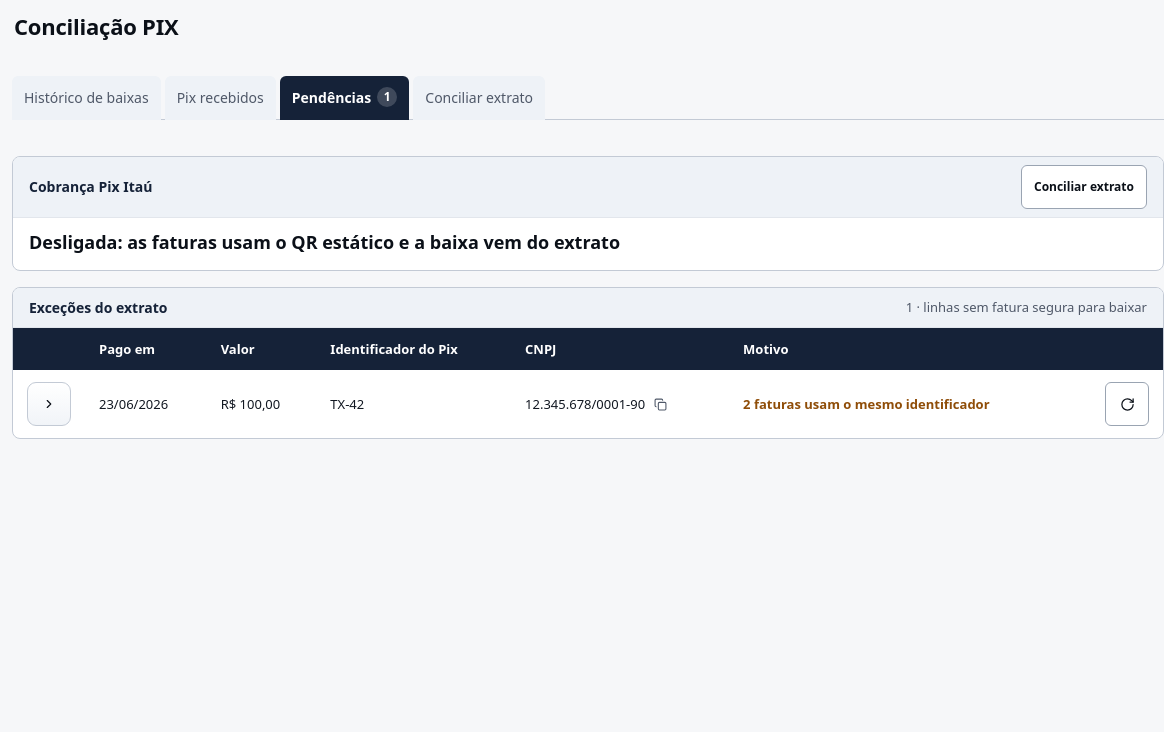
Test case: Conciliação PIX › baixa gravada e exceção não encerrada: pede para não repetir e só encerra a exceção
Click the button named "Abrir faturas candidatas da linha 8" at (49, 404), box [27, 382, 71, 426]
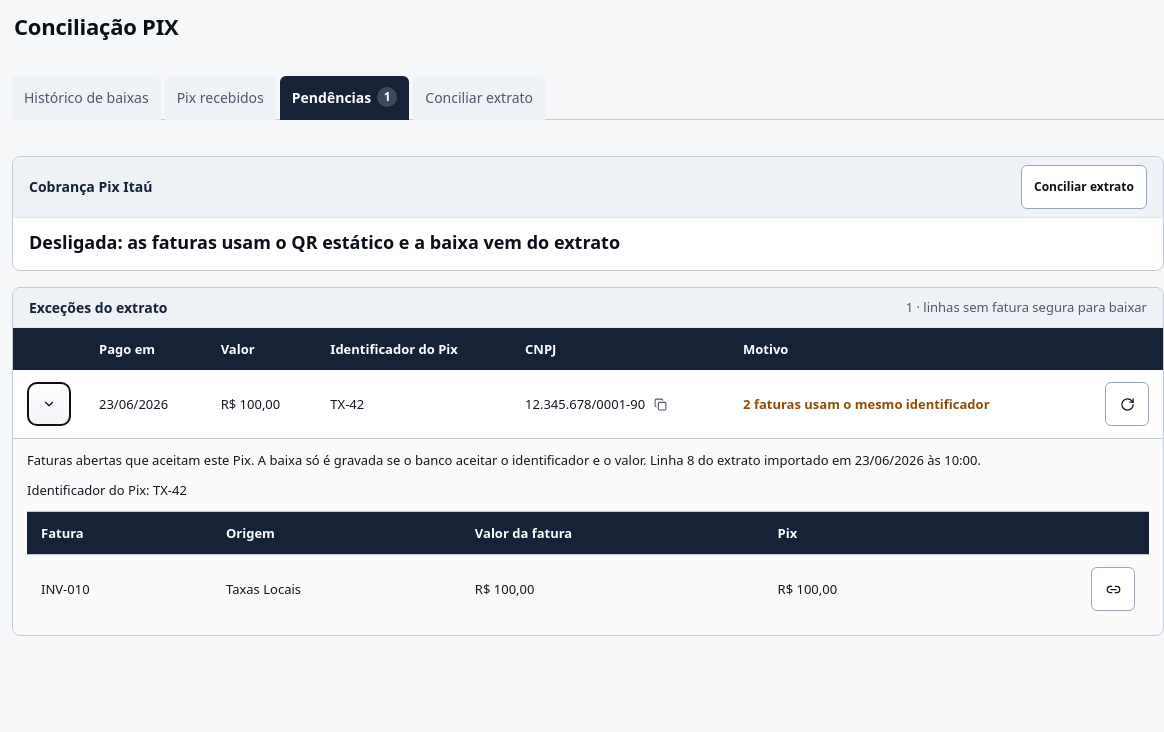
Click the button named "Baixar na fatura INV-010" at (1113, 589), box [1091, 567, 1135, 611]
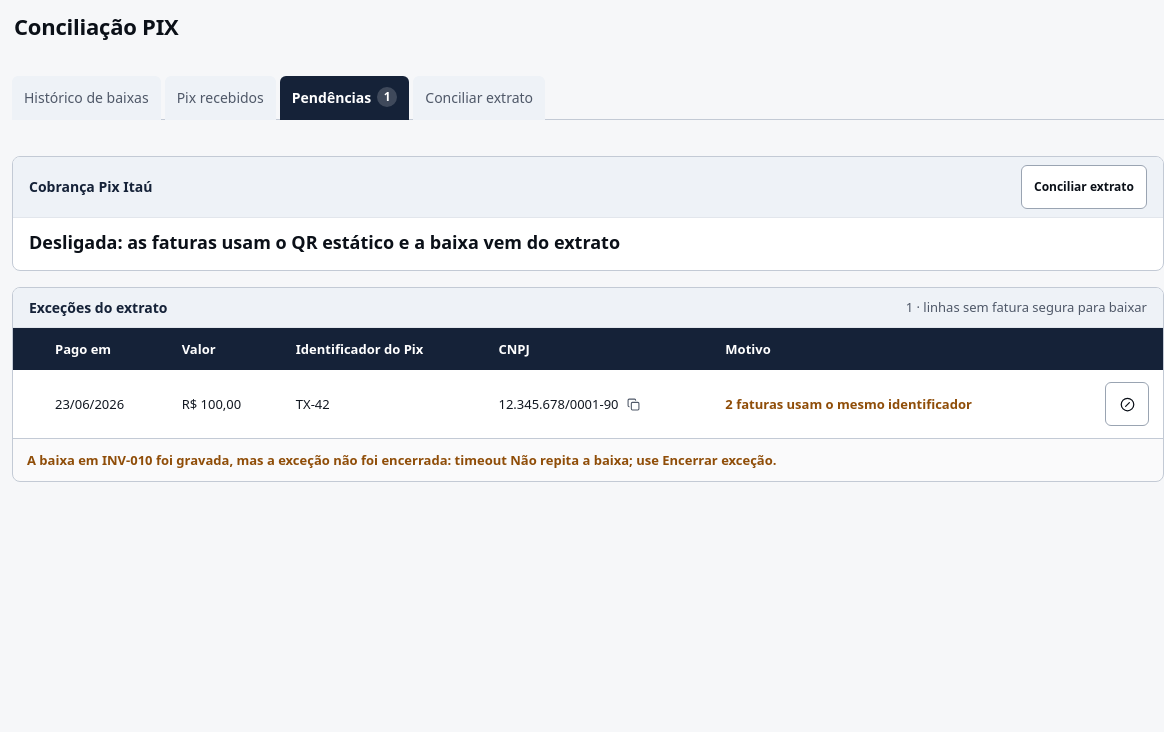
expect the text "A baixa em INV-010 foi gravada, mas a exceção não foi encerrada: timeout Não repita a baixa; use Encerrar exceção" is shown: met, box [27, 451, 776, 469]
Click the button named "Encerrar exceção da linha 8" at (1127, 404), box [1105, 382, 1149, 426]
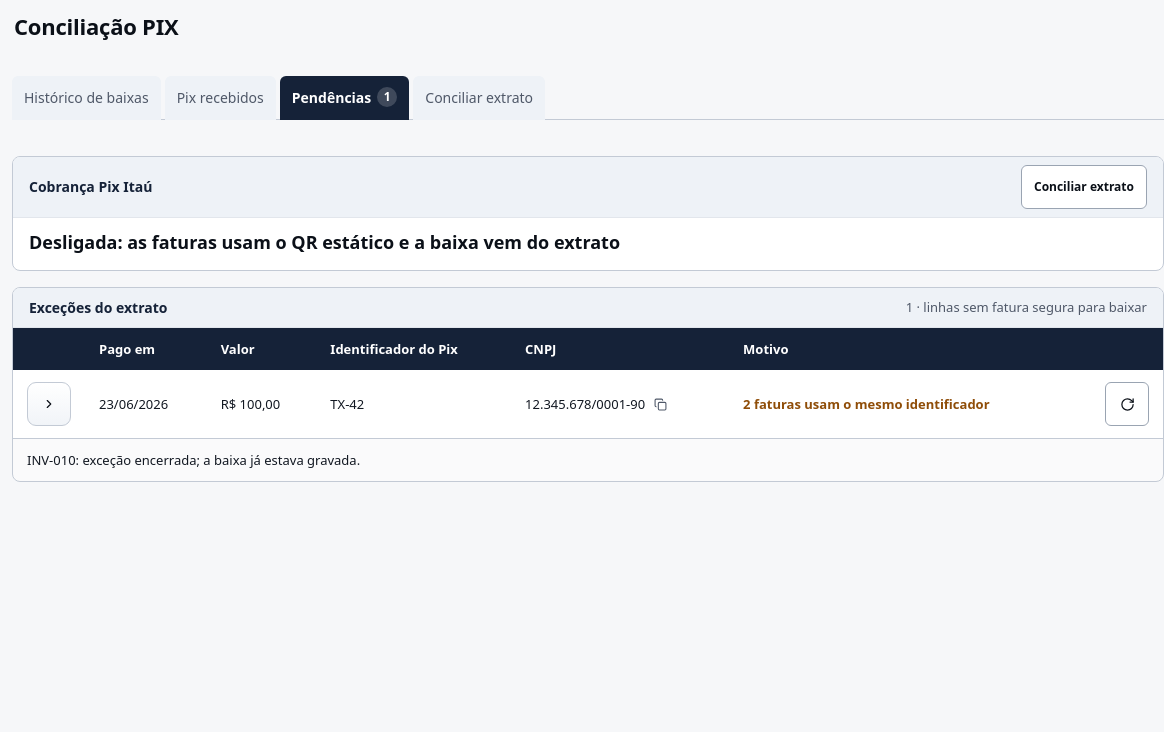
expect the text "INV-010: exceção encerrada; a baixa já estava gravada." is shown: met, box [27, 451, 360, 469]
